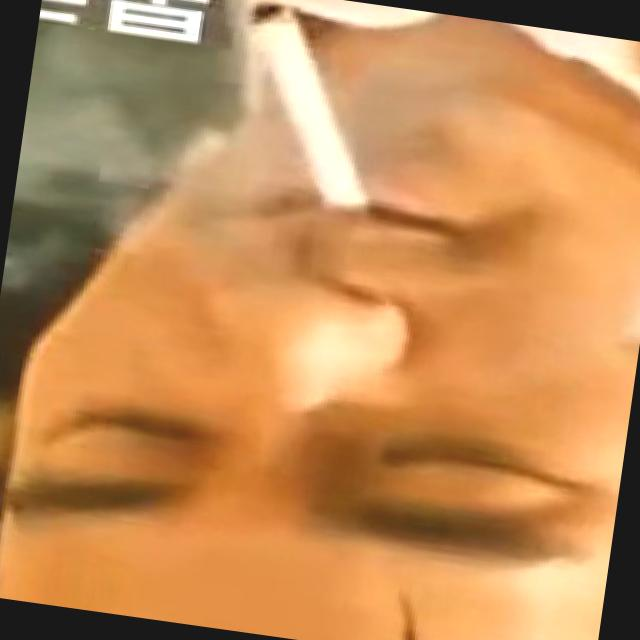cigarette: (215, 2, 402, 228)
